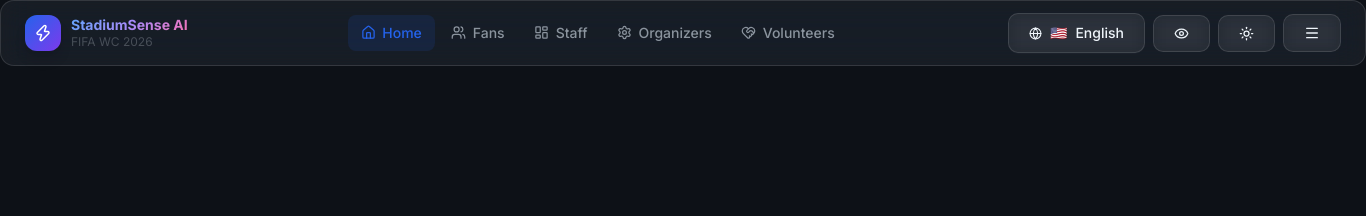
Test case: LayoutHeader Component › should toggle language selector menu when clicked
Step 1. Click the button with aria-label "change language" → (1076, 33), box left=1008, top=13, right=1145, bottom=53
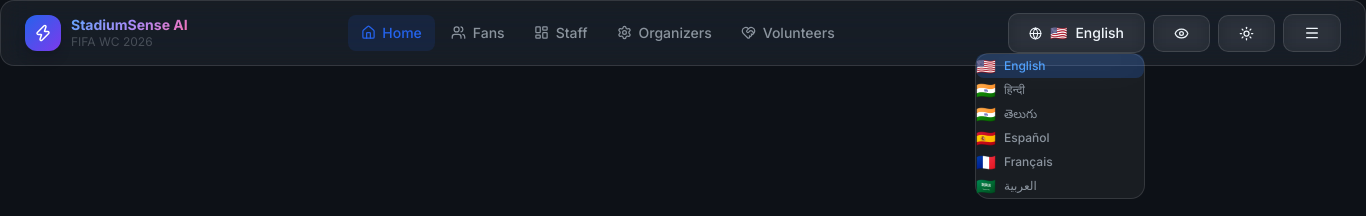
Now the option "🇮🇳 हिन्दी" is shown, box left=976, top=78, right=1144, bottom=102
Now the option "🇮🇳 తెలుగు" is shown, box left=976, top=102, right=1144, bottom=126
Now the option "🇪🇸 Español" is shown, box left=976, top=126, right=1144, bottom=150
